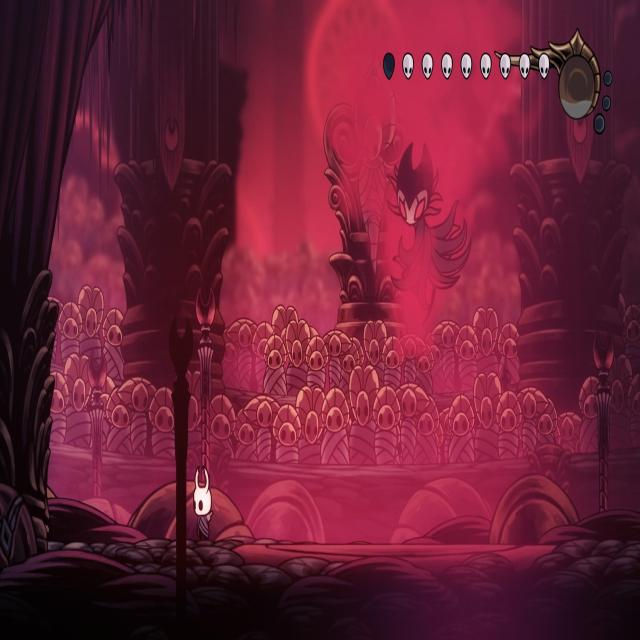Grimm: (386, 137, 473, 330)
Player: (191, 459, 215, 543)
